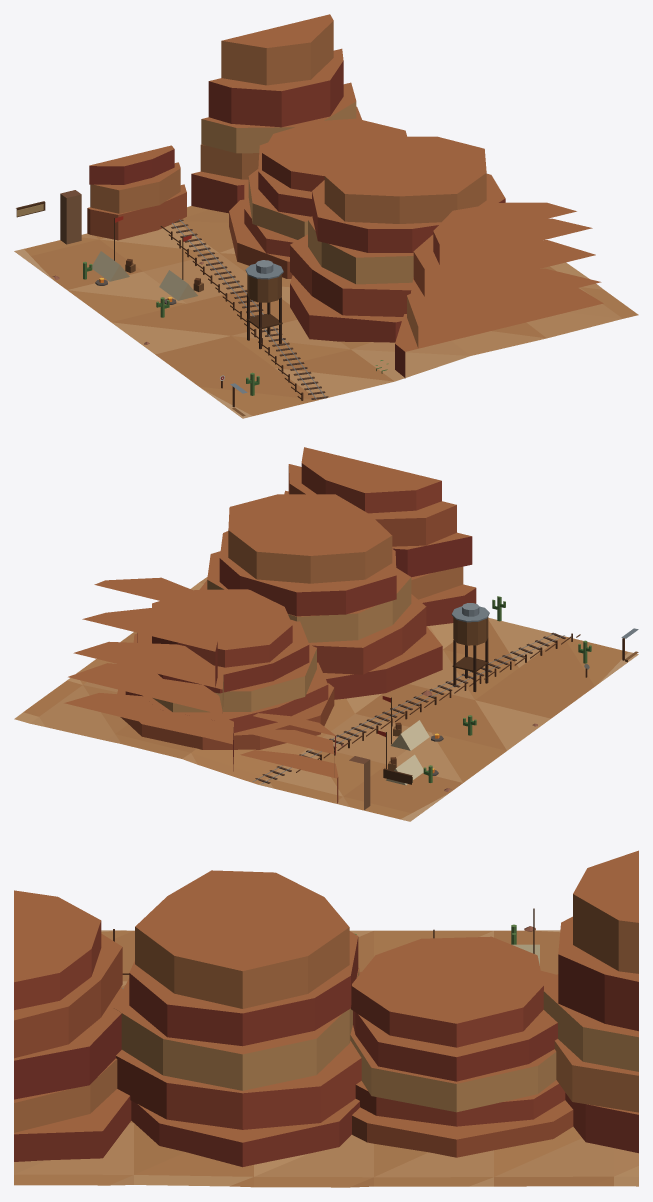
The picture shows the model from 3 angles, top to bottom: view 1: azimuth 30°, elevation 25°; view 2: azimuth 150°, elevation 25°; view 3: azimuth 270°, elevation 25°; orthographic projection. The views are drawn at different scales.
Visible parts, largest first — view 1: baked; view 2: baked; view 3: baked.
Boxes of the visible parts, bbox=[...] form: baked: bbox=[14, 14, 638, 418]; baked: bbox=[14, 447, 638, 821]; baked: bbox=[14, 850, 638, 1187].
Size of the model in its own units: 62.5 by 24.11 by 62.5.
